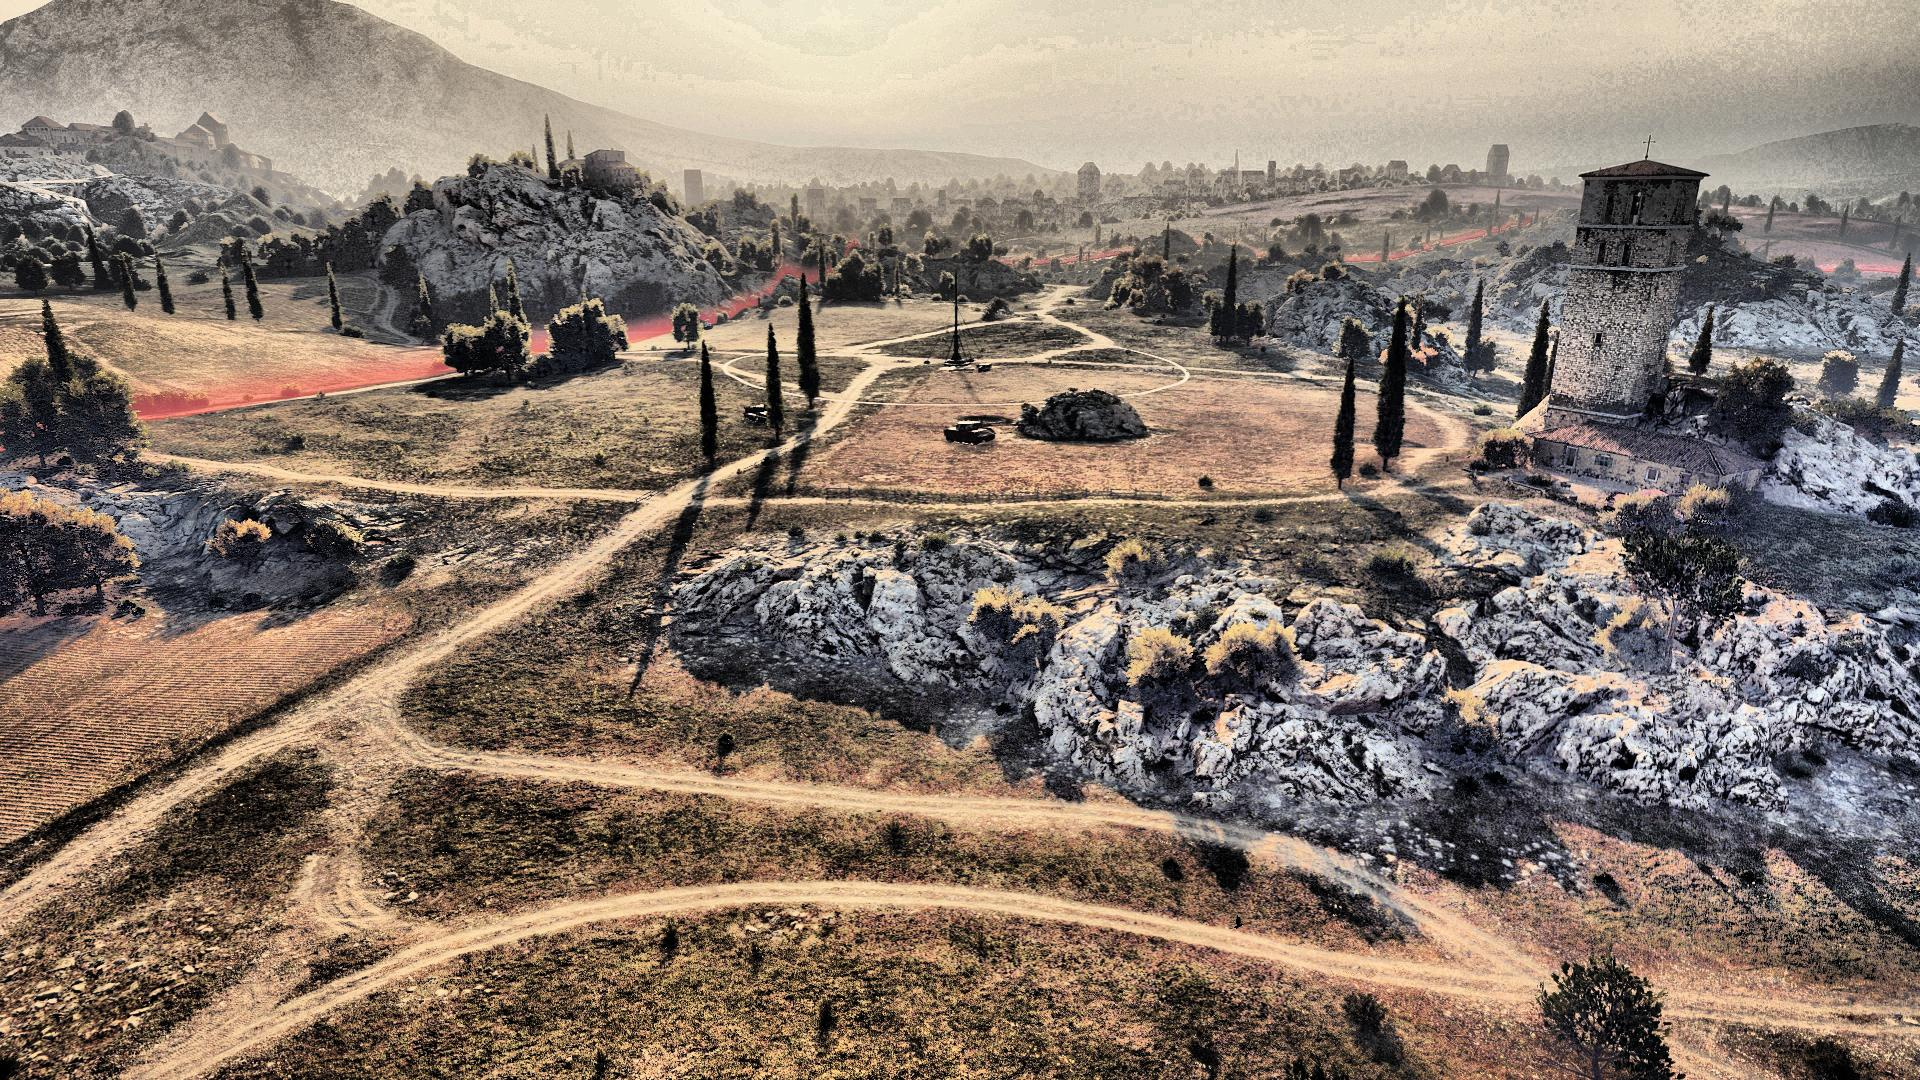military-vehicle: (942, 417, 1000, 447), (742, 401, 794, 426)
